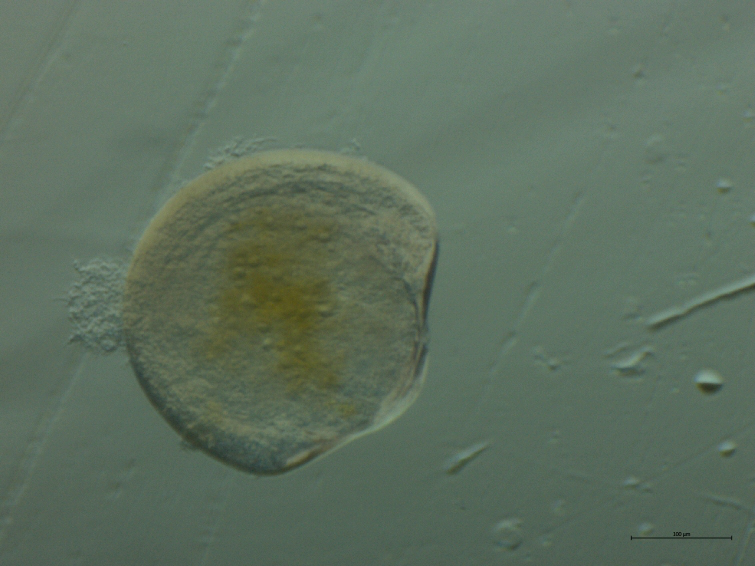oyster: (111, 138, 456, 484)
